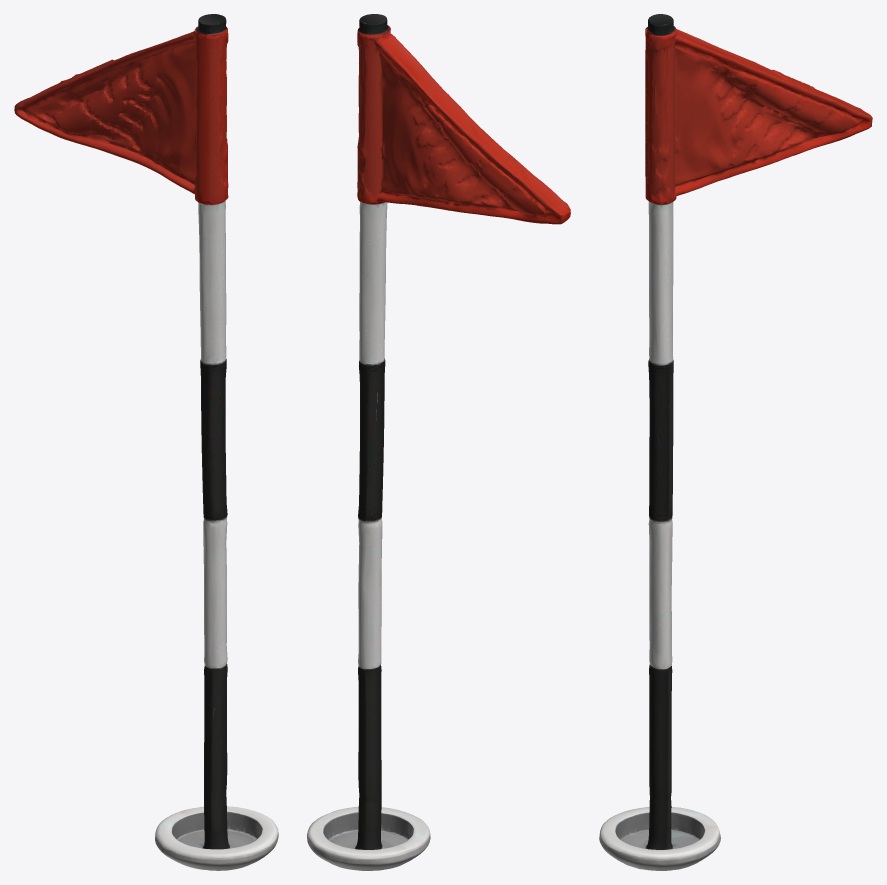
Rendered from flagpole.glb.
The picture shows the model from 3 angles, left to right: view 1: azimuth 30°, elevation 25°; view 2: azimuth 210°, elevation 25°; view 3: azimuth 270°, elevation 25°; orthographic projection.
Parts seen in each view (by area): view 1: tripo_node_c6b07f8c-1604-4dde-94d7-730906443cf0; view 2: tripo_node_c6b07f8c-1604-4dde-94d7-730906443cf0; view 3: tripo_node_c6b07f8c-1604-4dde-94d7-730906443cf0.
Part boxes in pixels (x1,y1,x2,y2): tripo_node_c6b07f8c-1604-4dde-94d7-730906443cf0: (14, 14, 278, 870); tripo_node_c6b07f8c-1604-4dde-94d7-730906443cf0: (307, 14, 570, 870); tripo_node_c6b07f8c-1604-4dde-94d7-730906443cf0: (599, 14, 872, 870).
Size of the model in its own units: 0.1906 by 0.9815 by 0.2928.
1 material, 1 textured.
